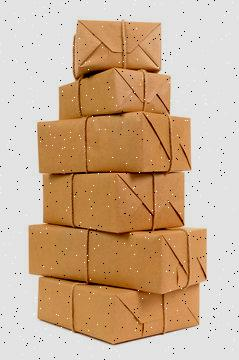Box: (29, 224, 207, 294), (39, 278, 199, 343), (38, 112, 191, 173), (43, 172, 184, 232), (59, 68, 170, 119), (73, 20, 161, 78)
